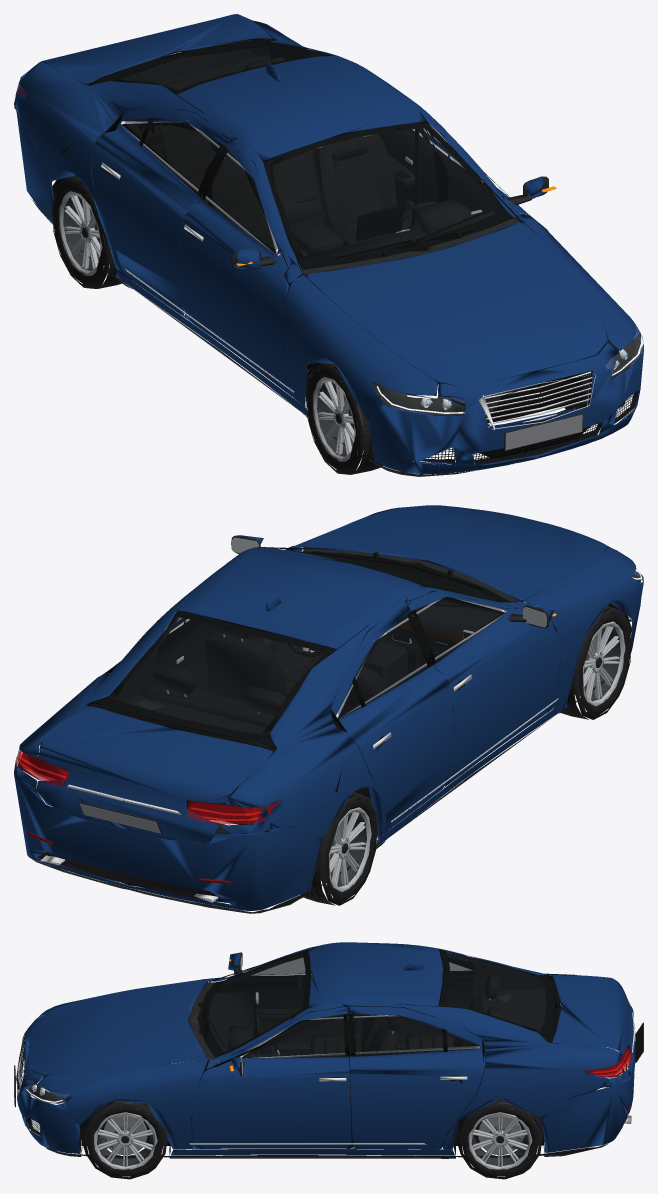
File: executive-sedan.glb
3 renders of one model, top to bottom at view 1: azimuth 30°, elevation 25°; view 2: azimuth 150°, elevation 25°; view 3: azimuth 270°, elevation 25°, orthographic. The views are drawn at different scales.
Parts seen in each view (by area): view 1: Body, Wheel_FR, Wheel_RR; view 2: Body, Wheel_RR, Wheel_FR; view 3: Body, Wheel_RL, Wheel_FL.
Boxes of the visible parts, <box> form: Body: <box>14,14,643,476</box>; Wheel_FR: <box>305,363,382,474</box>; Wheel_RR: <box>52,175,122,288</box>; Body: <box>14,505,643,913</box>; Wheel_RR: <box>300,791,377,905</box>; Wheel_FR: <box>554,606,631,719</box>; Body: <box>14,942,643,1158</box>; Wheel_RL: <box>457,1099,542,1179</box>; Wheel_FL: <box>82,1101,167,1179</box>.
Size of the model in its own units: 2.16 by 1.49 by 5.01.
Materials: 58 (11 with a texture image).
